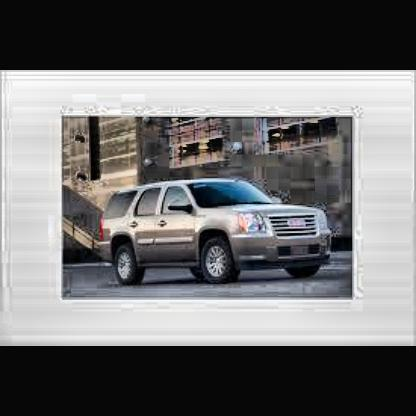Chrysler Aspen SUV 2009: (101, 177, 338, 287)
